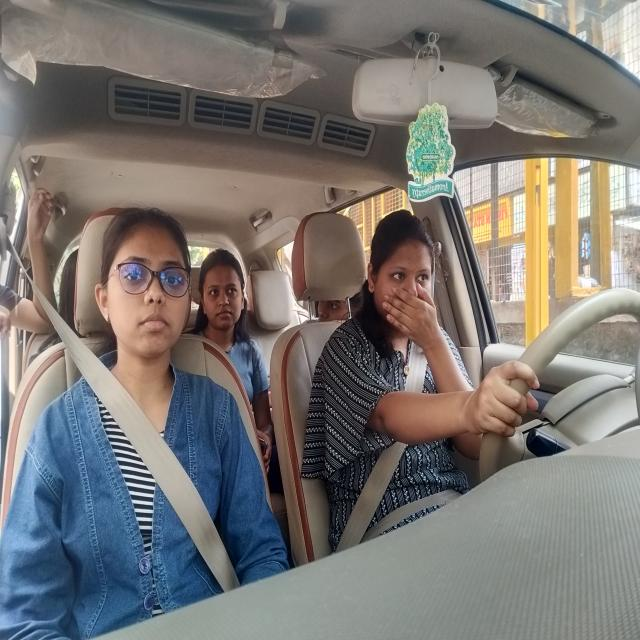drowsy: (363, 208, 435, 350)
person: (93, 203, 197, 363), (201, 243, 249, 341)
